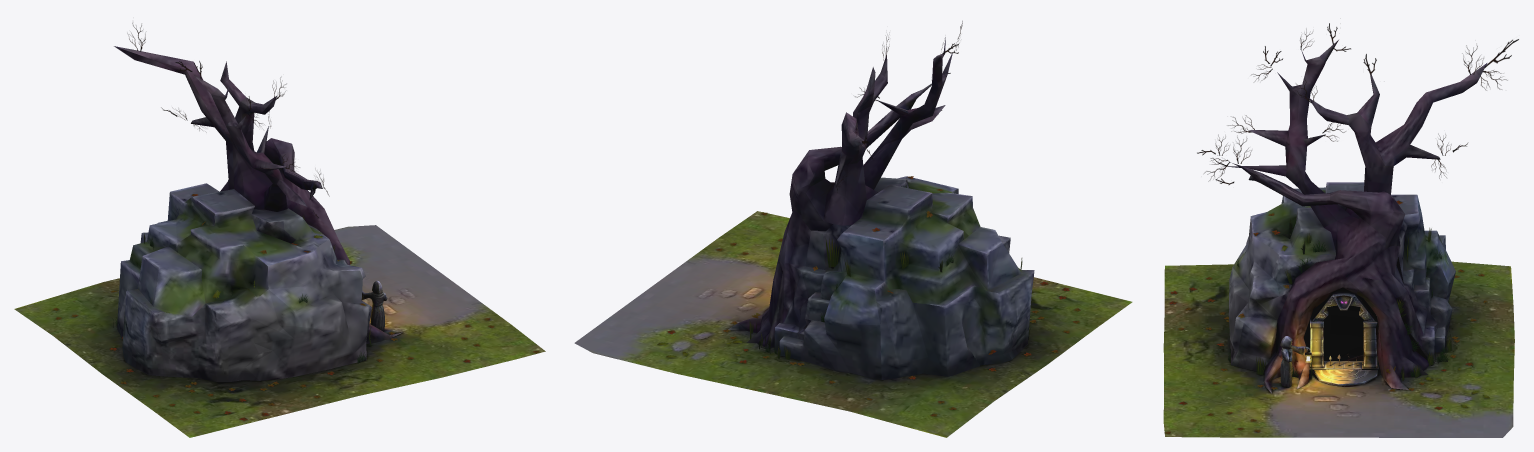
File: PRP_MouthGate_lod.glb
3 views of the same model, side by side, from view 1: azimuth 30°, elevation 25°; view 2: azimuth 150°, elevation 25°; view 3: azimuth 270°, elevation 25° (orthographic). The views are drawn at different scales.
Visible parts, largest first — view 1: Object_3, Object_5, Object_6; view 2: Object_3, Object_5, Object_6; view 3: Object_3, Object_5, Object_6, Object_2.
Boxes of the visible parts, left/top/right/bottom form: Object_3: left=114, top=46, right=402, bottom=381; Object_5: left=14, top=225, right=545, bottom=437; Object_6: left=52, top=23, right=540, bottom=420; Object_3: left=728, top=38, right=1034, bottom=379; Object_5: left=574, top=211, right=1132, bottom=437; Object_6: left=657, top=21, right=1080, bottom=416; Object_3: left=1217, top=40, right=1487, bottom=393; Object_5: left=1163, top=261, right=1514, bottom=437; Object_6: left=1164, top=23, right=1518, bottom=434; Object_2: left=1309, top=291, right=1378, bottom=386.
Size of the model in its own units: 12.77 by 11.05 by 11.17.
Materials: 5 (4 with a texture image).
